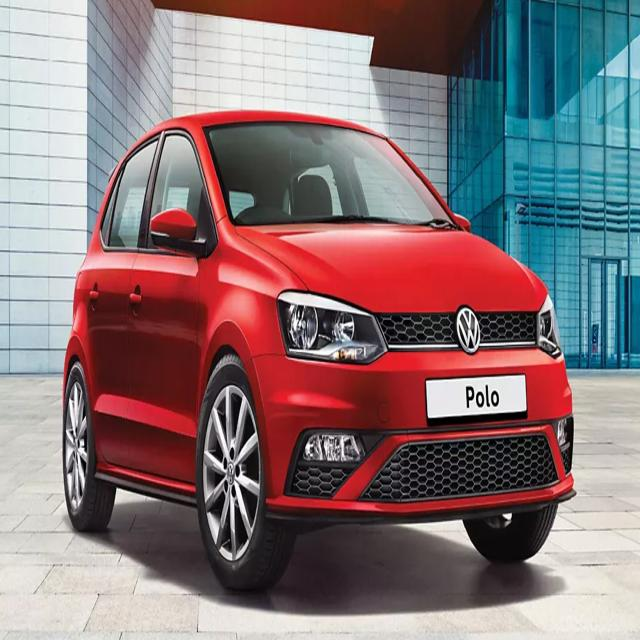vehicle: (45, 57, 611, 566)
